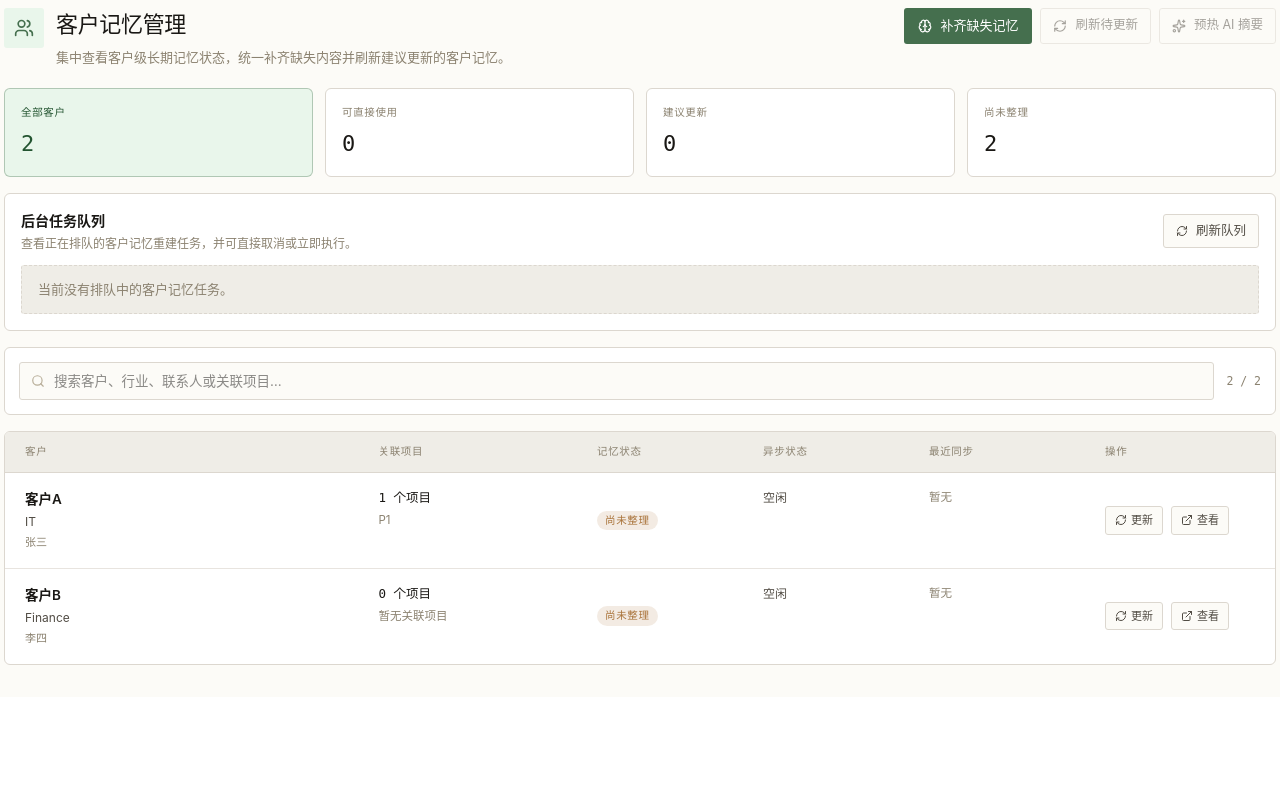
Test: ClientMemorySettings › filters clients by search query
Expected: the text "客户A" is shown, [25, 491, 62, 507]
Type "客户B" into the field with placeholder "搜索客户、行业、联系人或关联项目…" at (617, 381), box [19, 362, 1214, 400]
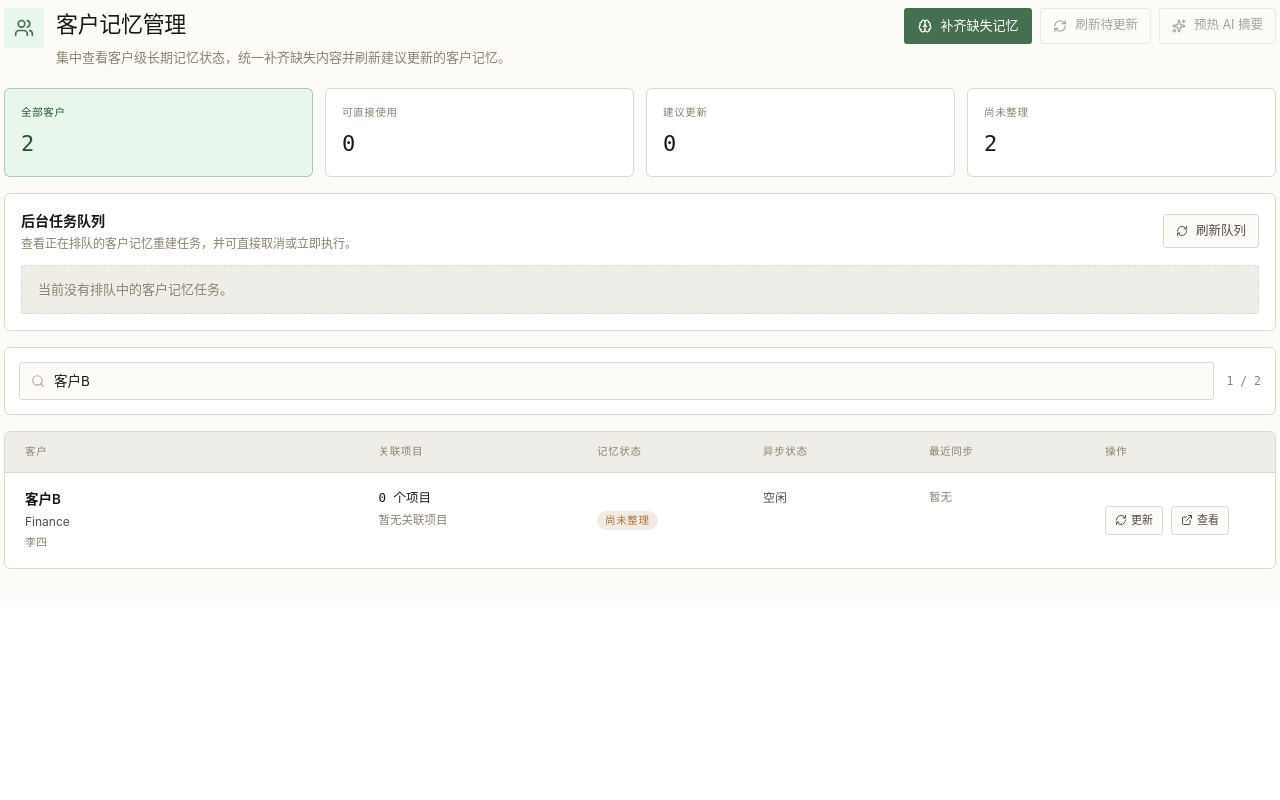
Expected: the text "客户B" is shown, [25, 491, 61, 507]
Expected: the text "客户A" is gone
